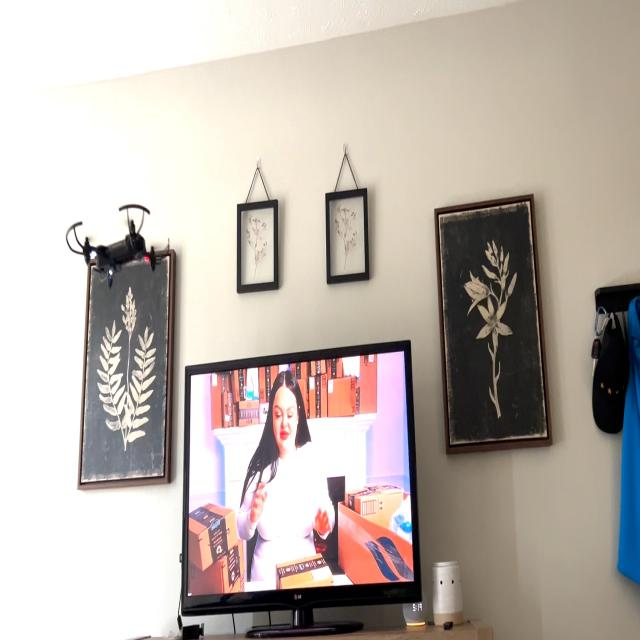drone: (56, 186, 179, 293)
